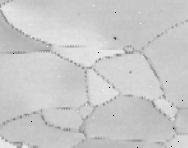good_void: (129, 68, 133, 74), (113, 36, 117, 41)
